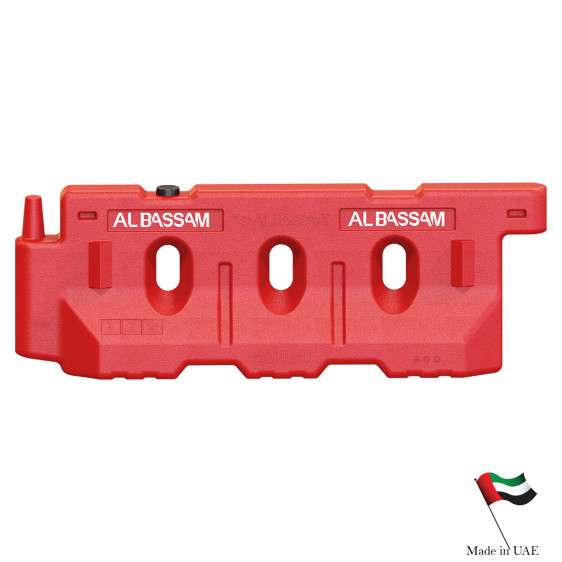Barrier: (5, 169, 551, 398)
